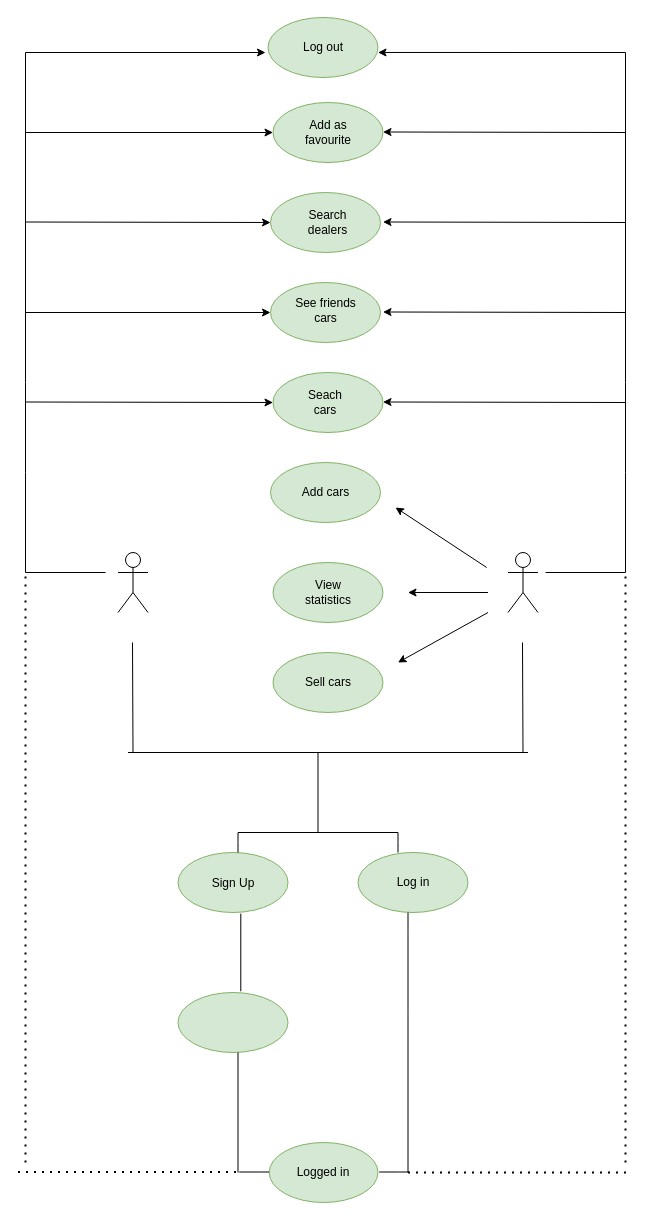
This 651x1220 diagram has some shape labels left out. Each missing label, with the box of its shape:
Dealer: (507, 552, 538, 612)
Profile Setup: (177, 992, 288, 1052)
User: (117, 552, 148, 612)
